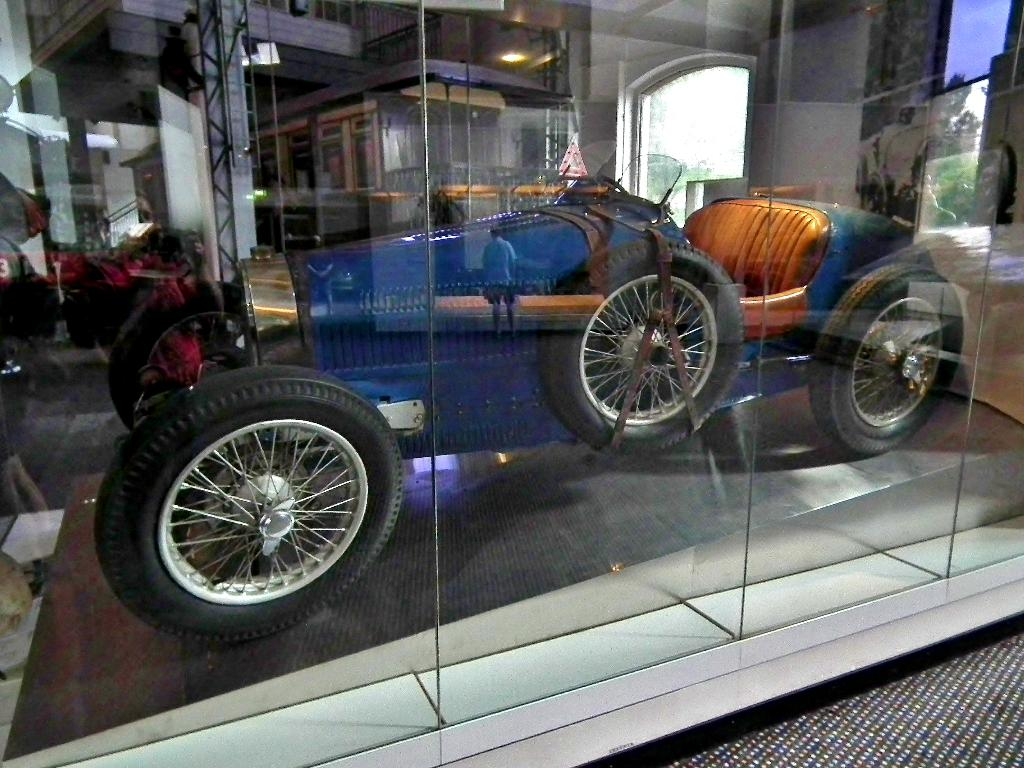Car: (87, 150, 963, 646)
